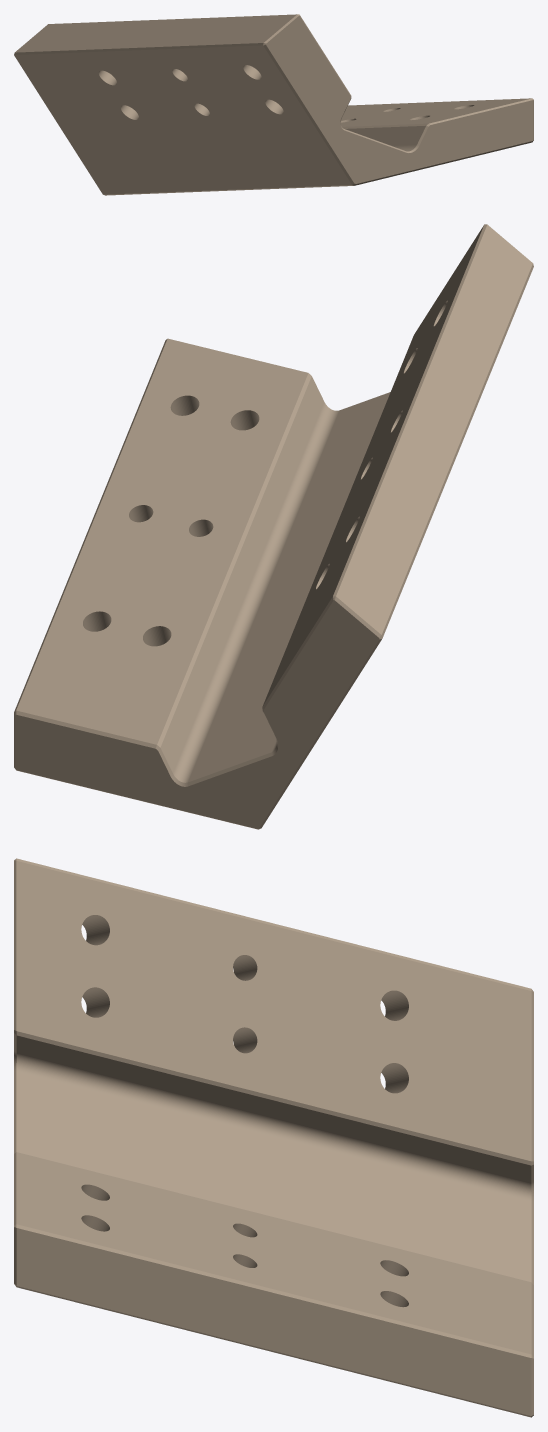
3 renders of one model, top to bottom at view 1: azimuth 30°, elevation 25°; view 2: azimuth 150°, elevation 25°; view 3: azimuth 270°, elevation 25°, orthographic. The views are drawn at different scales.
Visible parts, largest first — view 1: CB-01; view 2: CB-01; view 3: CB-01.
Boxes of the visible parts, left/top/right/bottom form: CB-01: left=14, top=14, right=533, bottom=195; CB-01: left=14, top=224, right=533, bottom=829; CB-01: left=14, top=858, right=533, bottom=1417.
Size of the model in its own units: 431 by 376 by 400.
